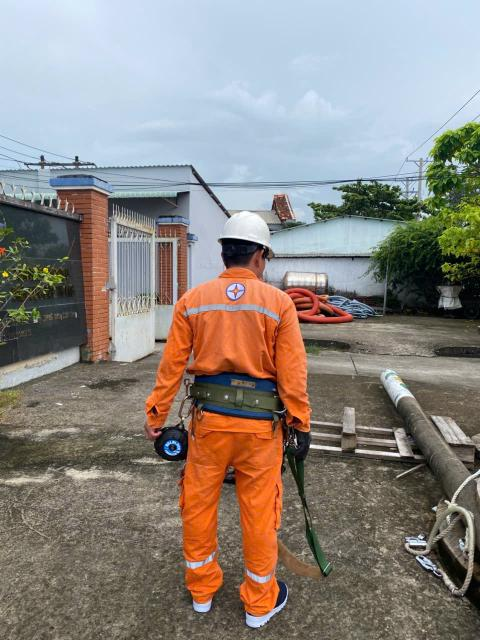gloves: (288, 419, 318, 462)
harness: (189, 365, 296, 433)
helmet: (213, 203, 289, 253)
shoes: (245, 574, 298, 627), (193, 573, 219, 617)
